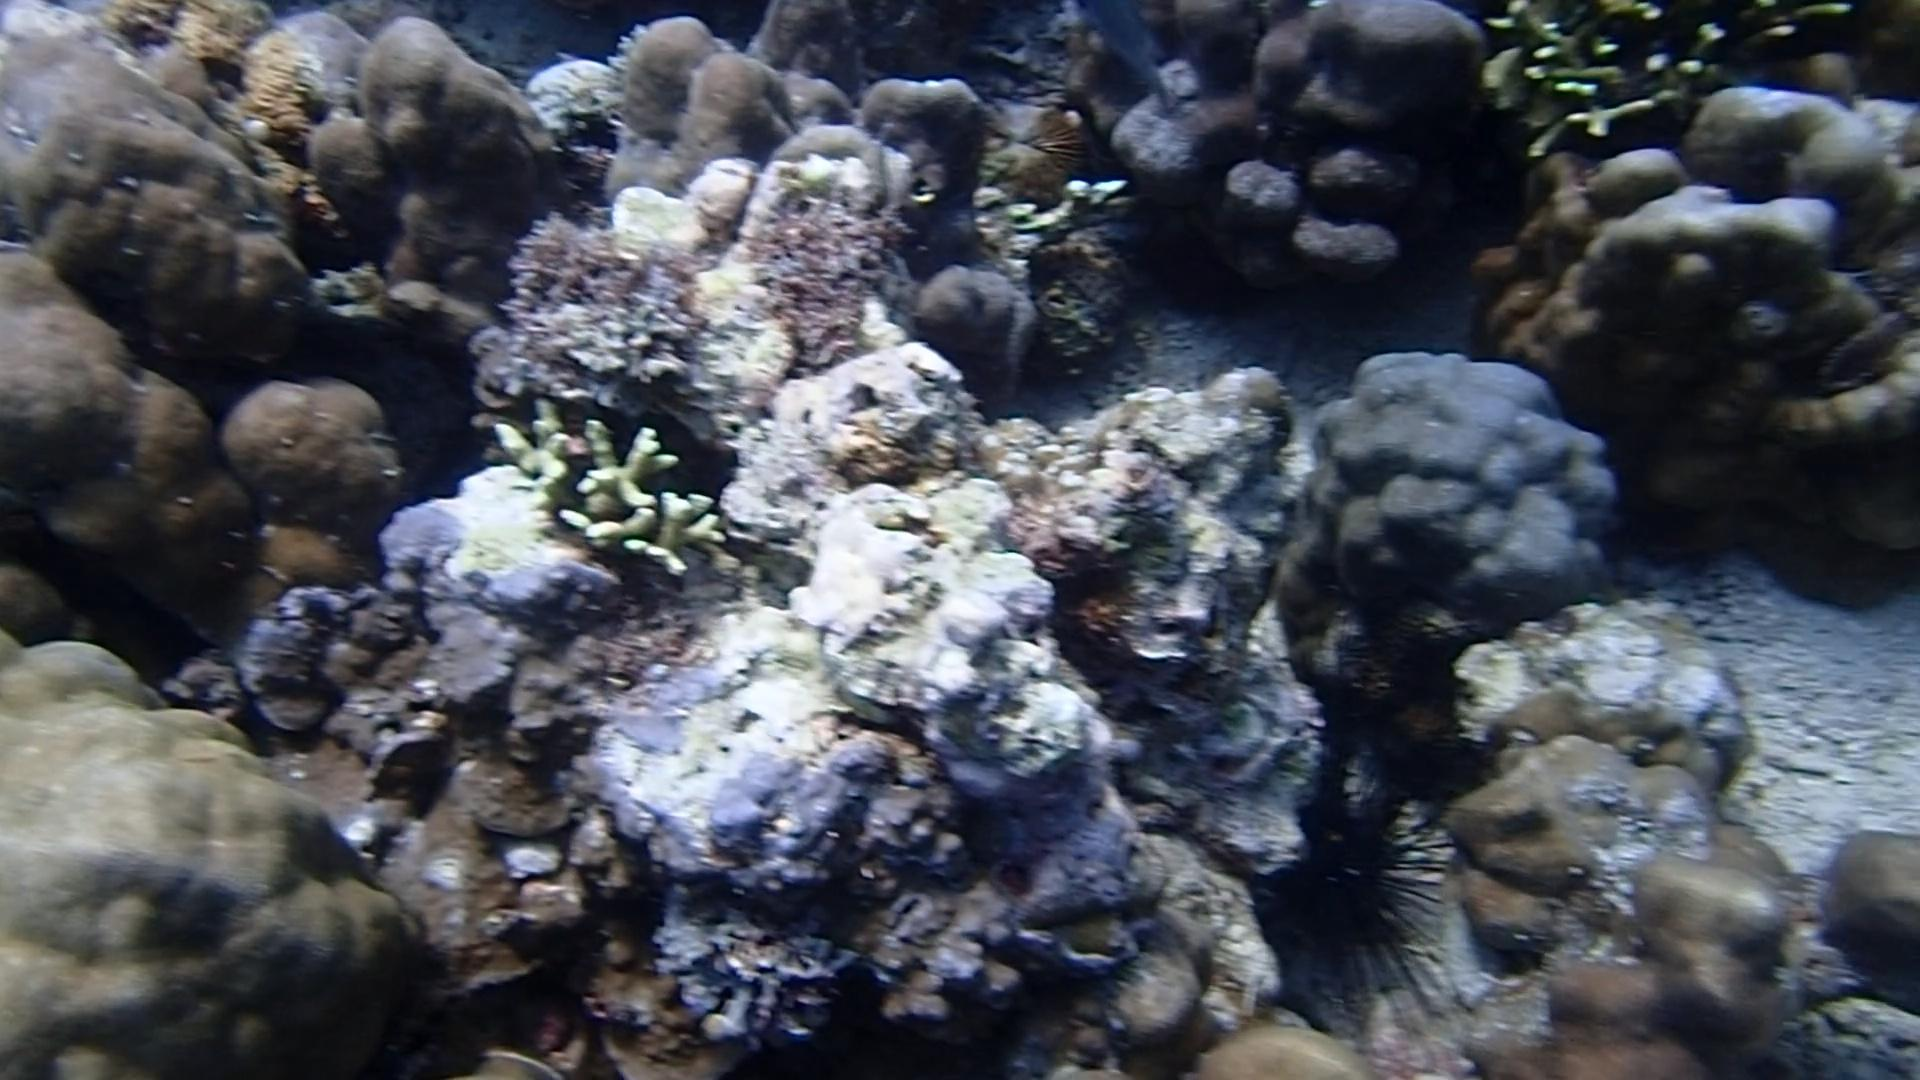Blue Fish Two: (1065, 0, 1189, 112)
